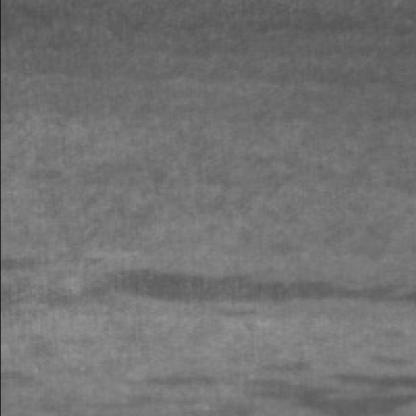inclusion: (45, 262, 416, 314), (229, 358, 416, 412), (110, 364, 250, 397)
